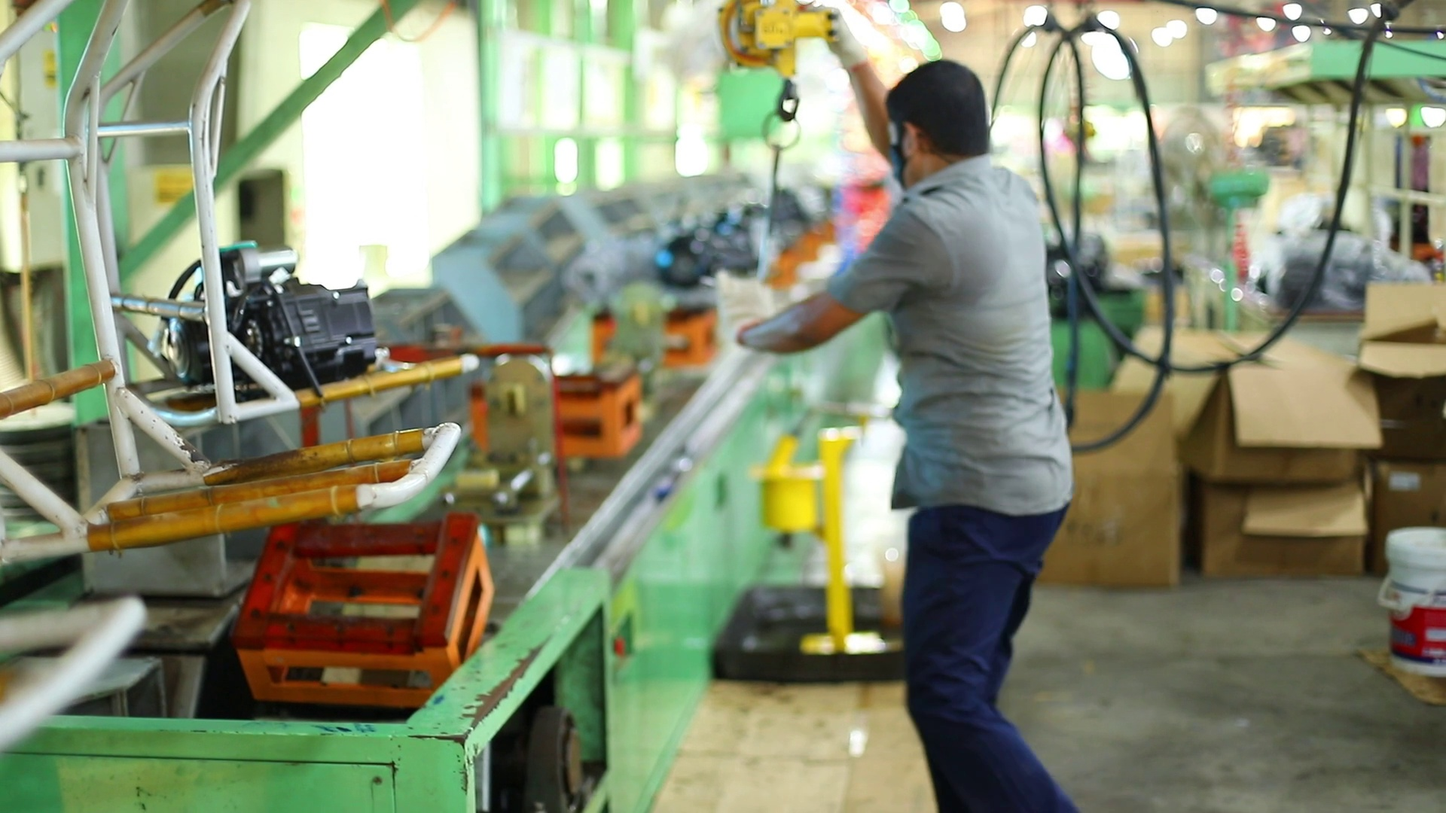mask: (888, 121, 911, 192)
person: (731, 6, 1084, 813)
